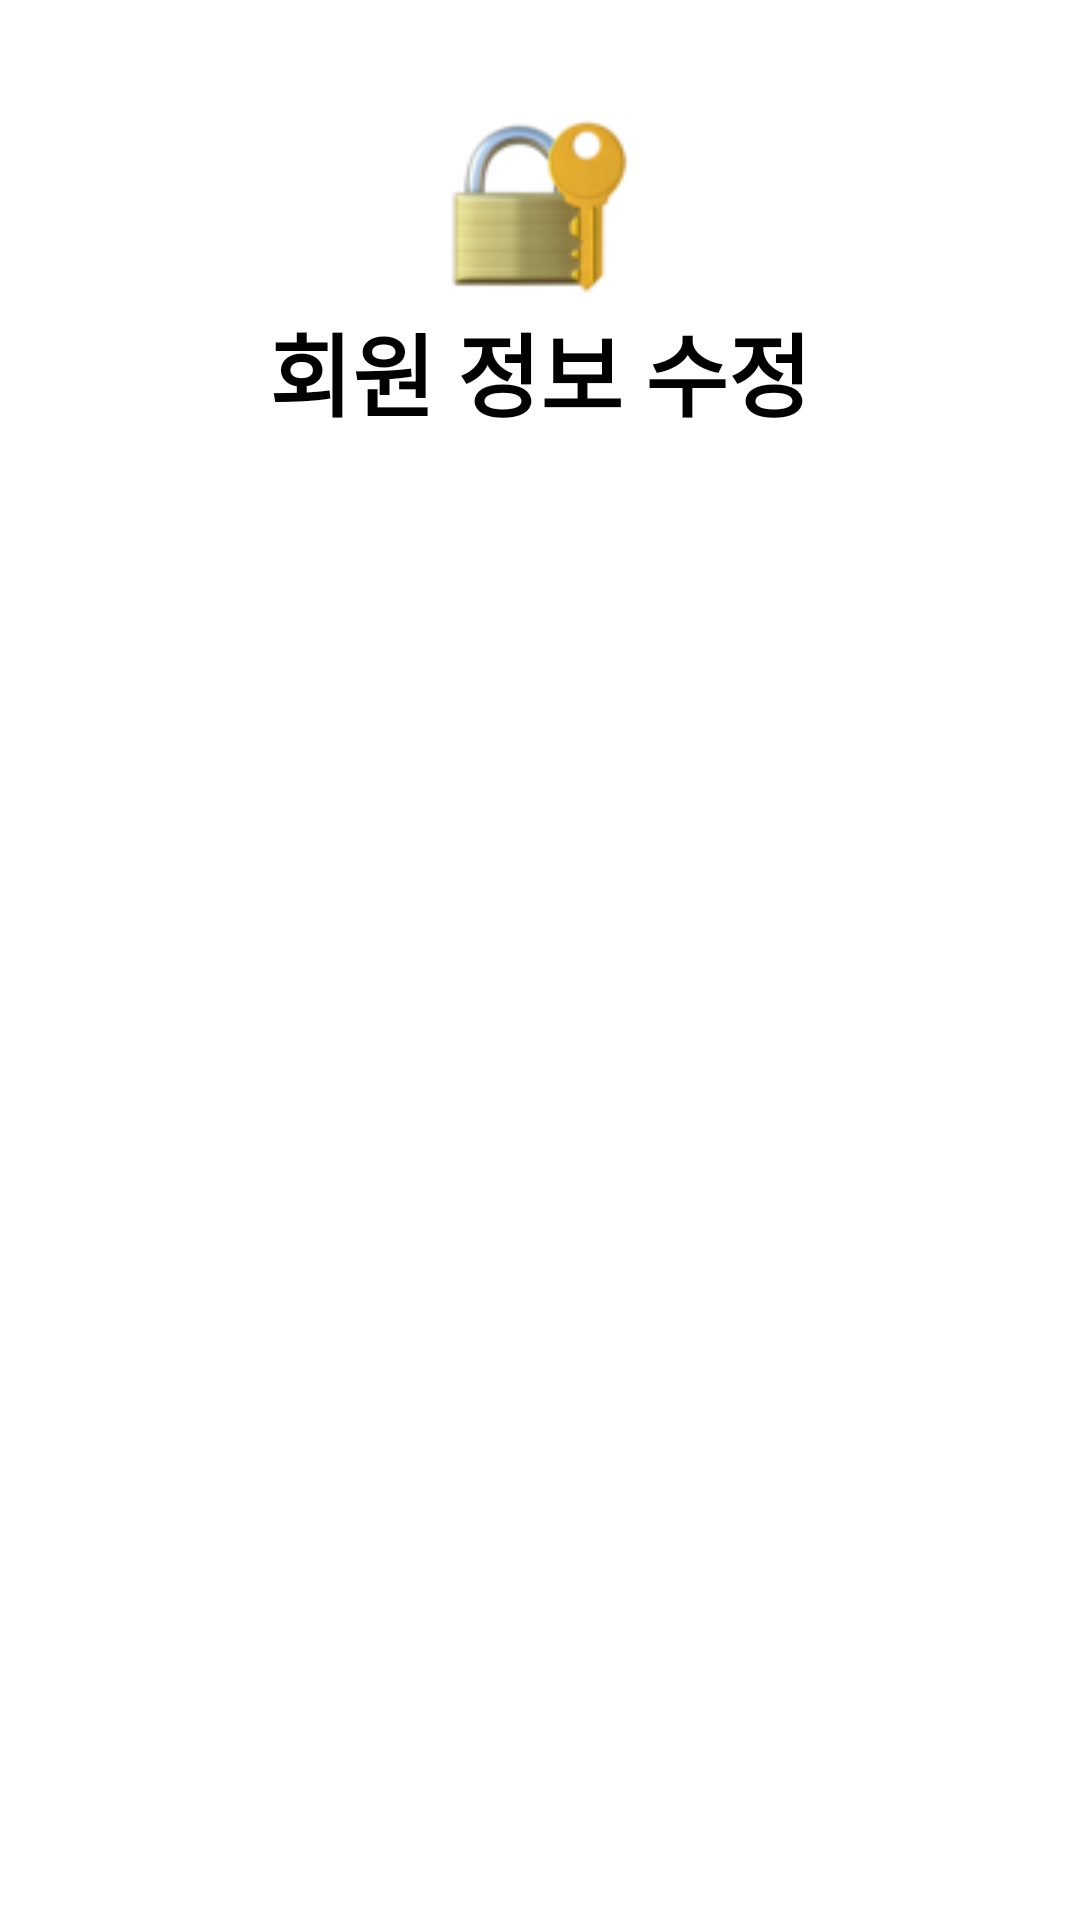

Where to tap for icons on this 1080x1920 app screen, as (x=x, y=y):
lock: (x=539, y=206)
